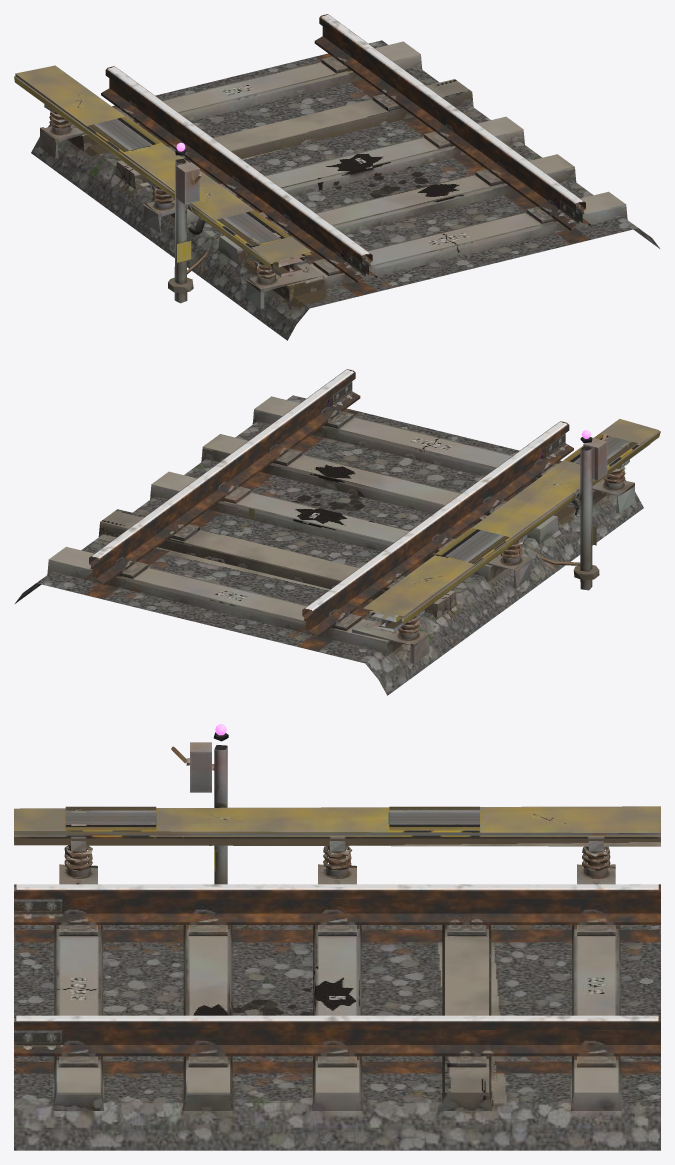
File: trilho_energizado.glb
3 views of the same model, one above another, from view 1: azimuth 30°, elevation 25°; view 2: azimuth 150°, elevation 25°; view 3: azimuth 270°, elevation 25° (orthographic). The views are drawn at different scales.
Parts seen in each view (by area): view 1: trilho_energizado_corpo; view 2: trilho_energizado_corpo; view 3: trilho_energizado_corpo.
Boxes of the visible parts, x1=… form: trilho_energizado_corpo: x1=14, y1=14, x2=659, y2=340; trilho_energizado_corpo: x1=15, y1=369, x2=660, y2=695; trilho_energizado_corpo: x1=14, y1=724, x2=660, y2=1150.
Bounding box in the file's own units: 0.9184 × 0.339 × 1.
Materials: 2 (1 with a texture image).
